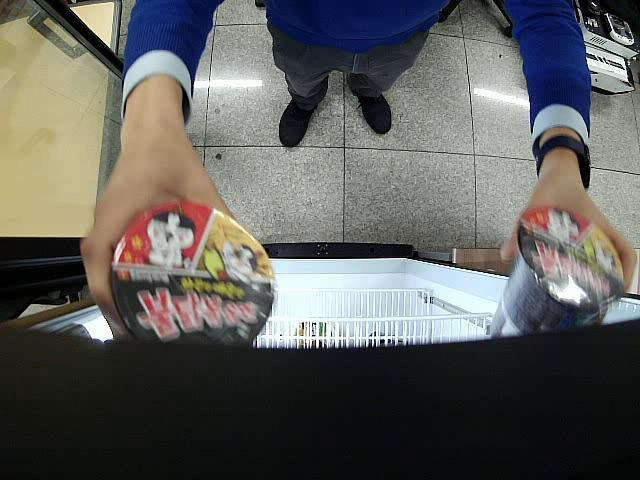00_hand: (80, 131, 239, 313), (499, 180, 637, 291)
08_buldak_S: (110, 201, 275, 348), (490, 206, 624, 337)
